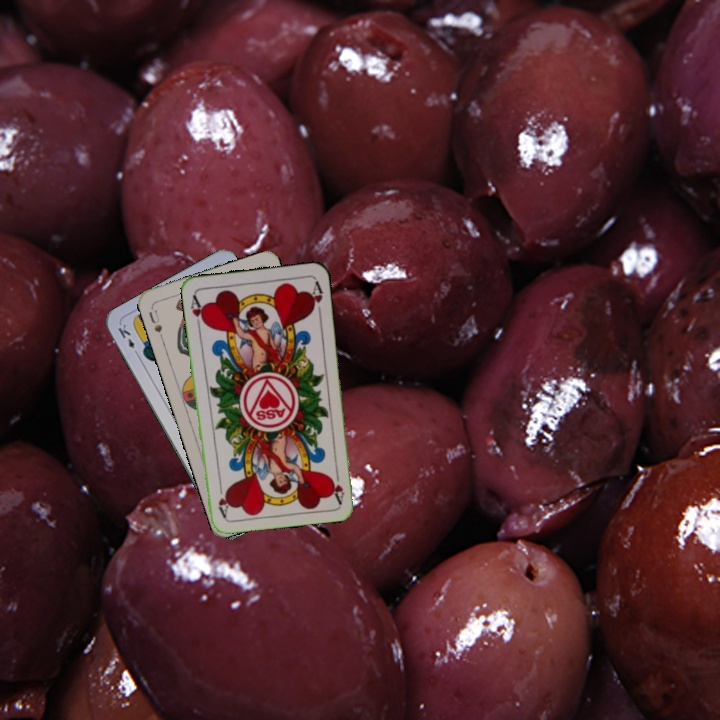EK: (113, 320, 142, 359)
HA: (186, 291, 208, 331), (327, 464, 346, 505)
SU: (145, 303, 166, 343)
